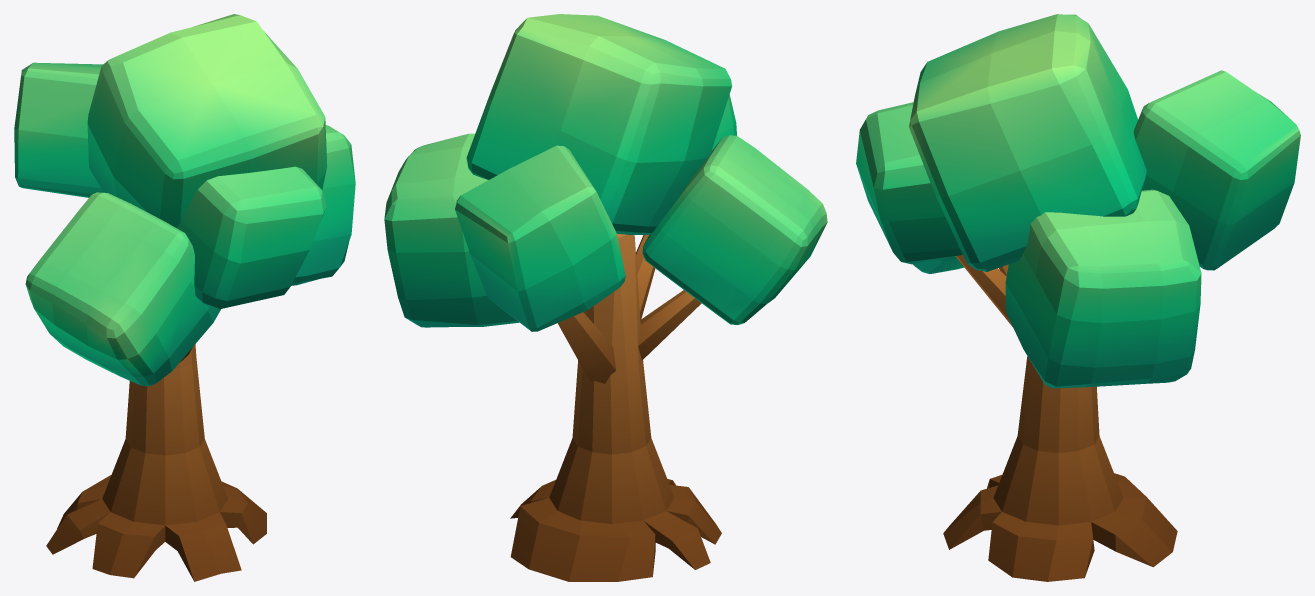
The model's file is Tree_Cube_Spring_Small.fbx.
The picture shows the model from 3 angles, left to right: view 1: azimuth 30°, elevation 25°; view 2: azimuth 150°, elevation 25°; view 3: azimuth 270°, elevation 25°; orthographic projection. The views are drawn at different scales.
Parts seen in each view (by area): view 1: Tree_Cube_Spring_Small; view 2: Tree_Cube_Spring_Small; view 3: Tree_Cube_Spring_Small.
Part boxes in pixels (left/top/right/bottom): Tree_Cube_Spring_Small: left=14, top=14, right=355, bottom=581; Tree_Cube_Spring_Small: left=384, top=14, right=827, bottom=581; Tree_Cube_Spring_Small: left=856, top=14, right=1300, bottom=581.
Size of the model in its own units: 245 by 322 by 252.
